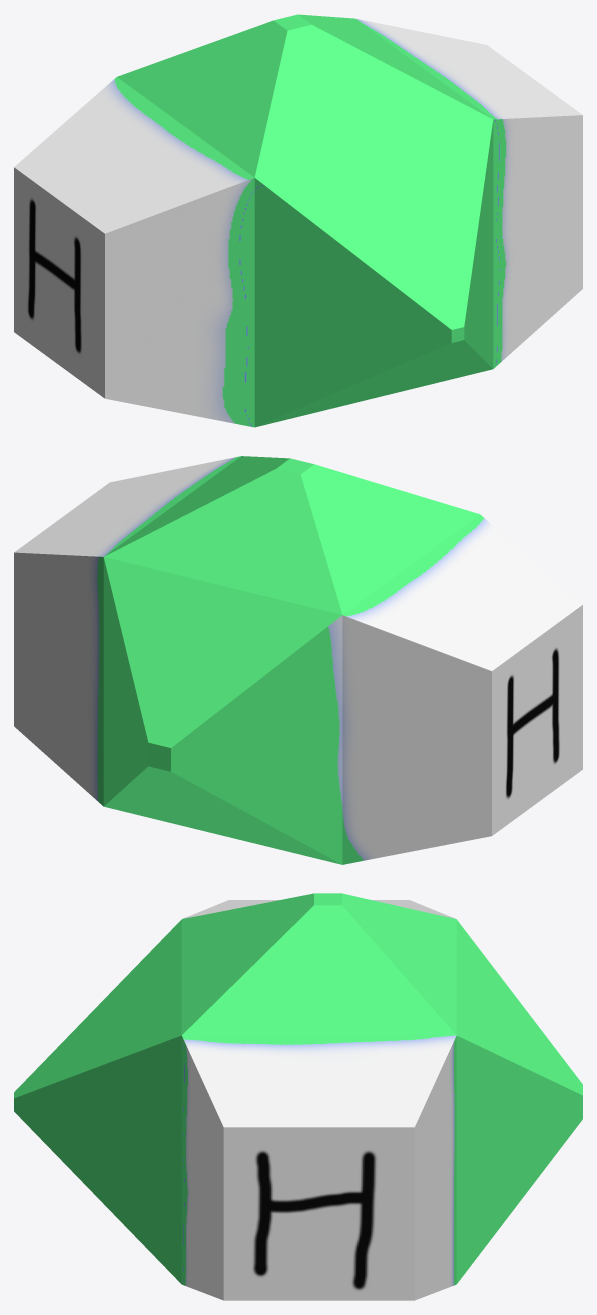
File: itemheal.obj
The picture shows the model from 3 angles, top to bottom: view 1: azimuth 30°, elevation 25°; view 2: azimuth 150°, elevation 25°; view 3: azimuth 270°, elevation 25°; orthographic projection.
Visible parts, largest first — view 1: Cube; view 2: Cube; view 3: Cube.
Boxes of the visible parts, bbox=[...] form: Cube: bbox=[14, 14, 582, 427]; Cube: bbox=[14, 456, 582, 864]; Cube: bbox=[14, 893, 582, 1300].
Bounding box in the file's own units: 3.99 × 3.02 × 4.14.
Materials: 1 (1 with a texture image).
